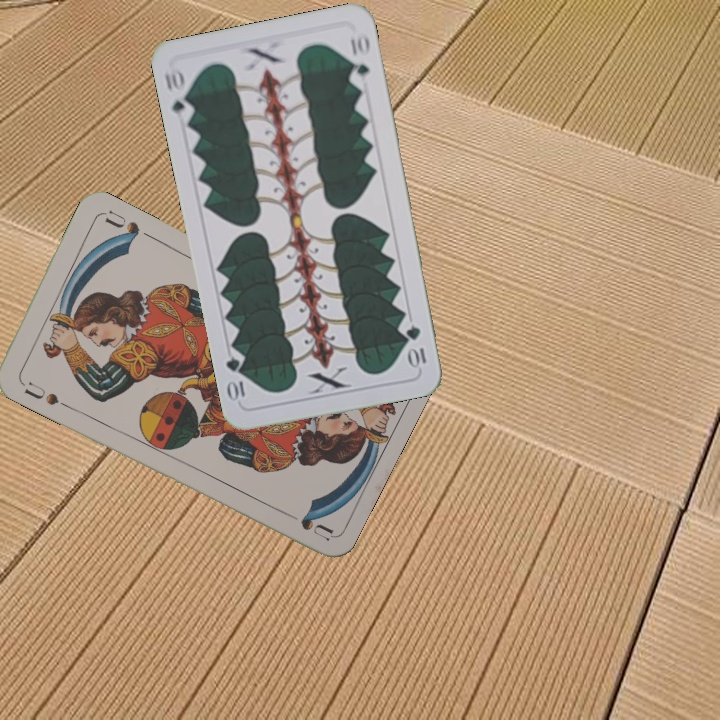G10: (160, 64, 196, 124), (402, 321, 429, 371)
SU: (20, 377, 62, 408)
